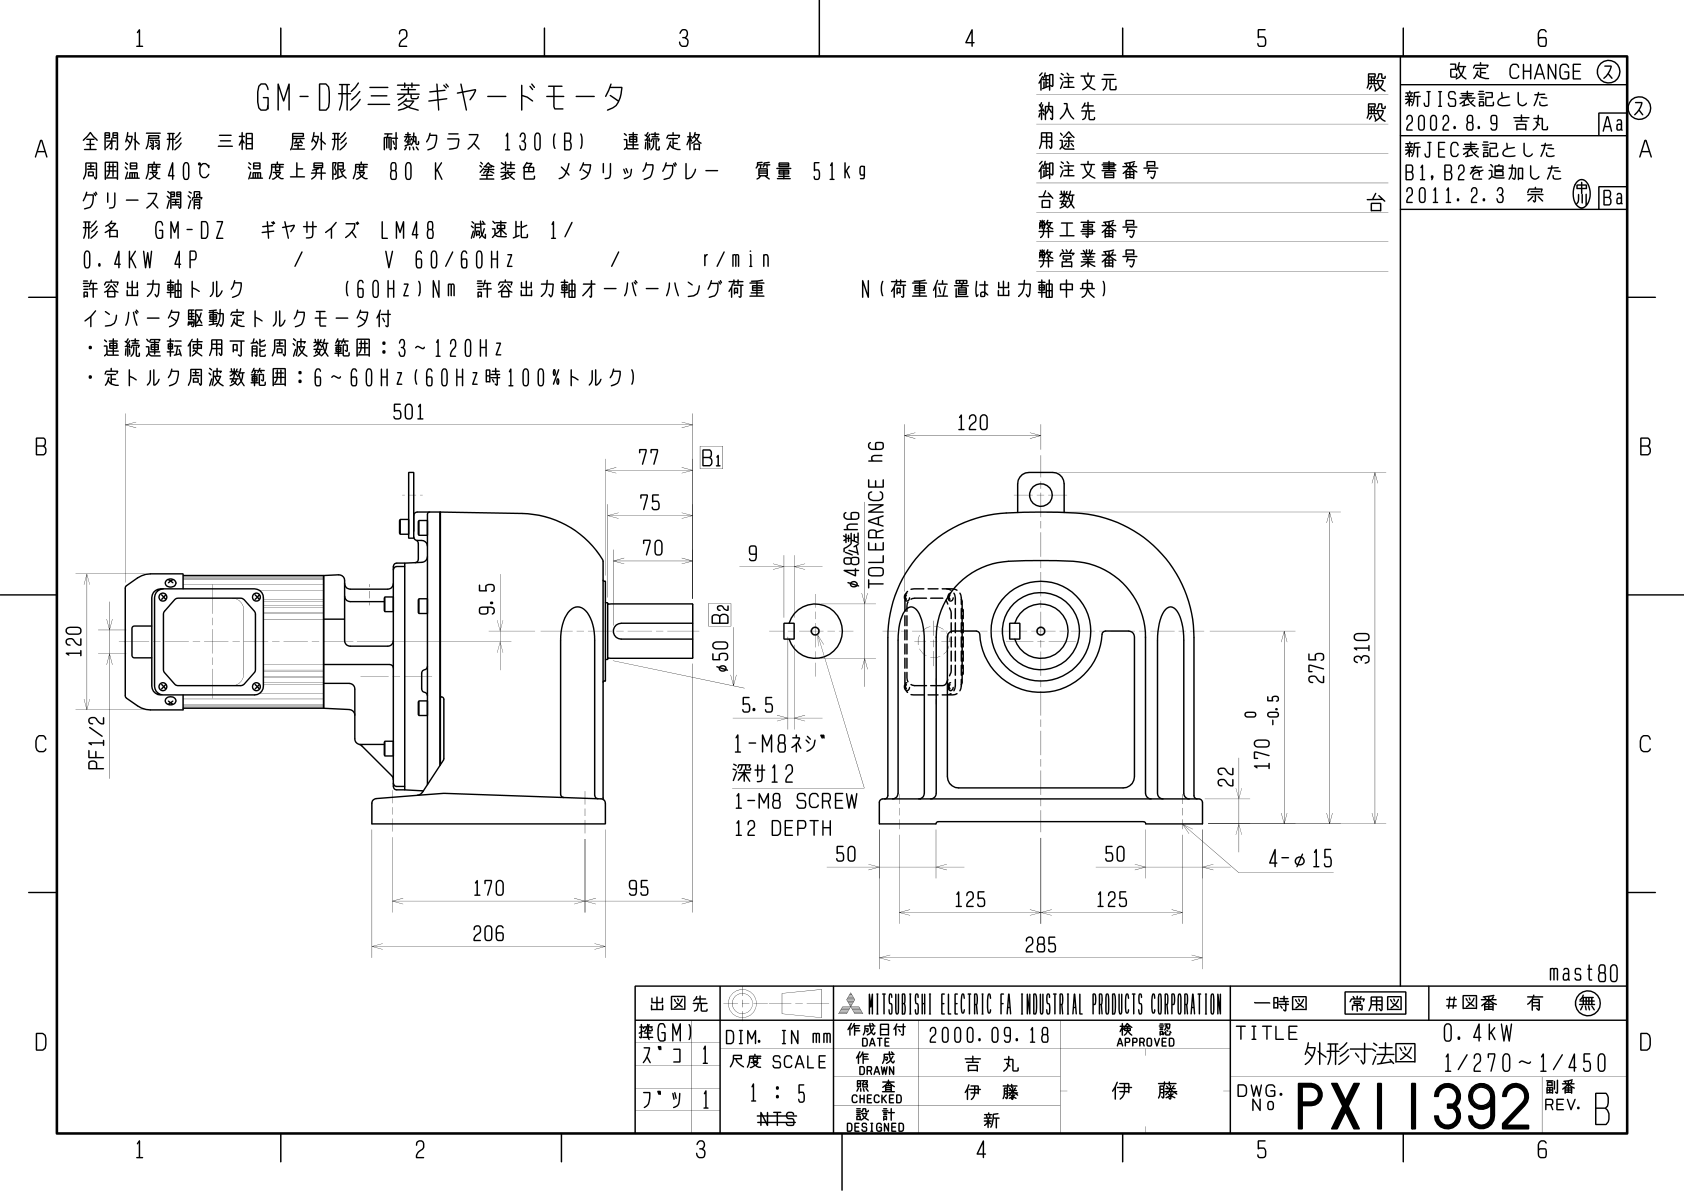GM_D_インバータ屋外_三相_脚: (61, 400, 1393, 971)
